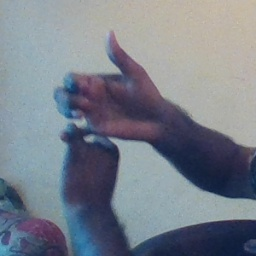S: (48, 26, 151, 183)
